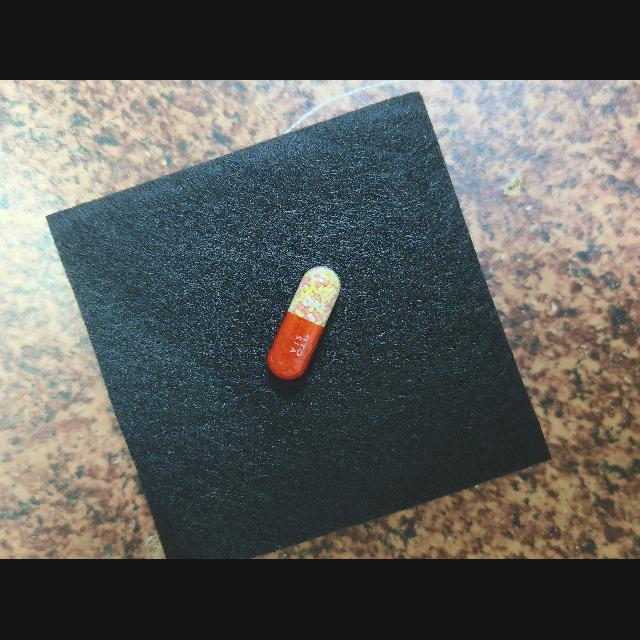Intact Capsule: (267, 267, 341, 380)
